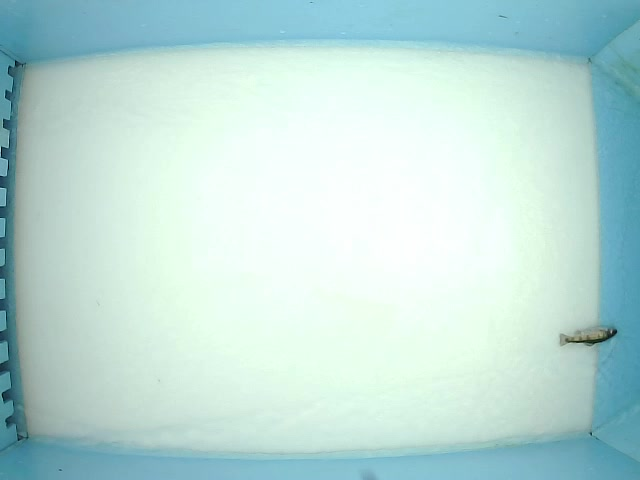fish: (558, 322, 618, 349)
